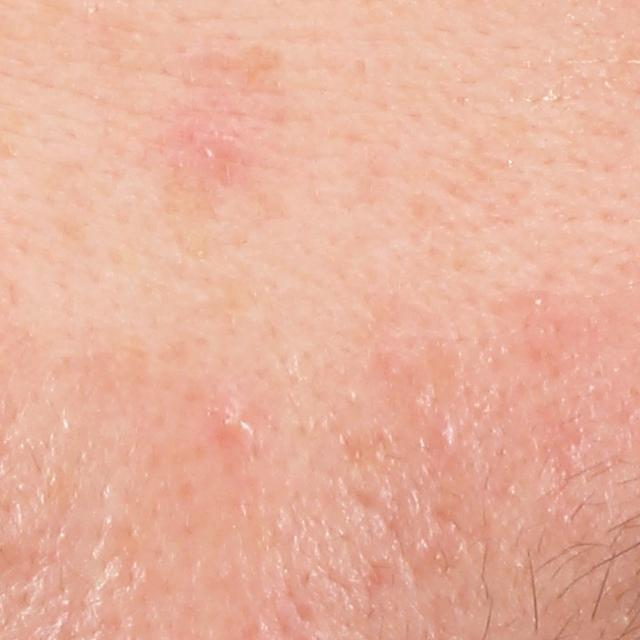comedo: (532, 294, 549, 310)
papule: (205, 388, 266, 457)
